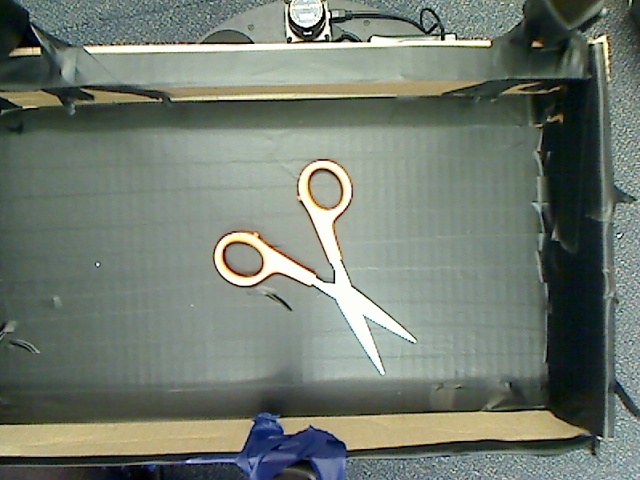scissors: (204, 154, 438, 384)
